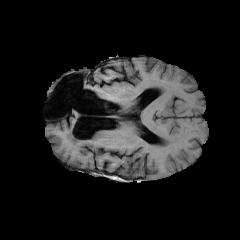glioma: (44, 87, 117, 117)
